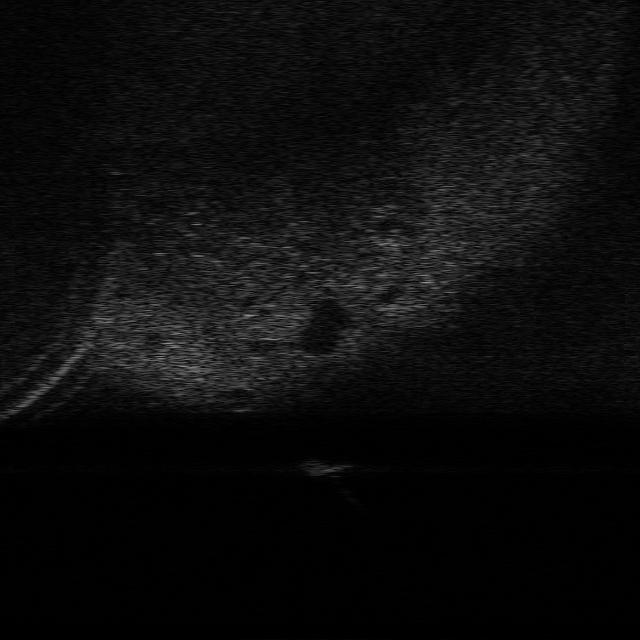cube: (298, 460, 348, 478)
